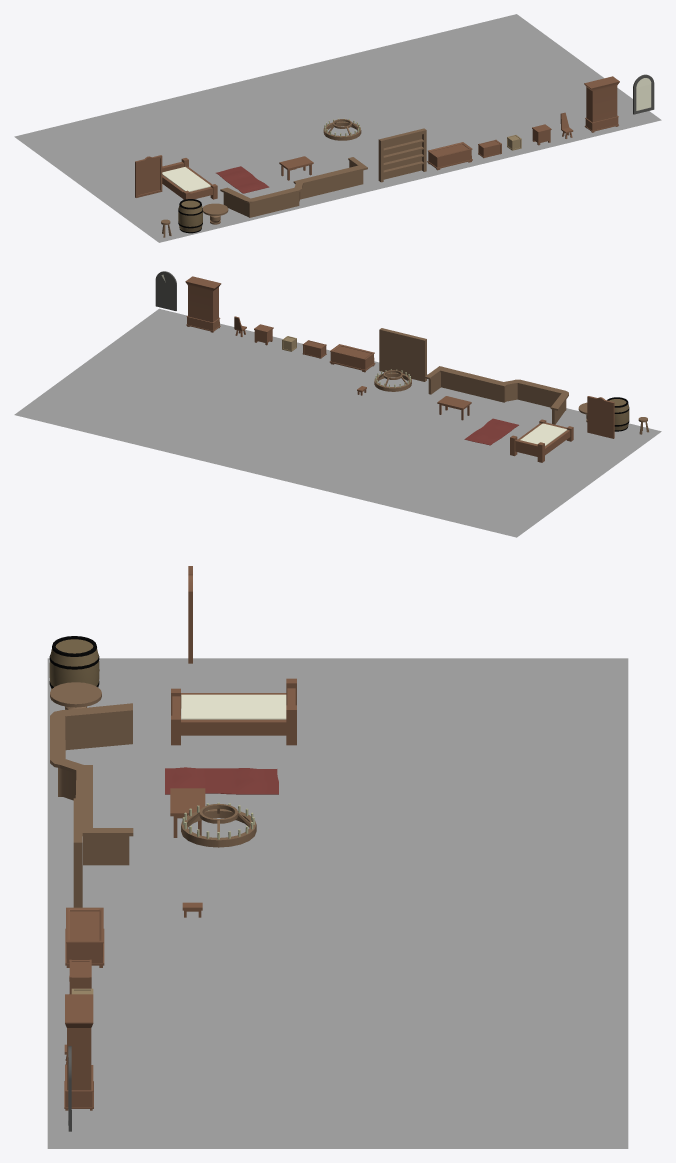
Rendered from Prop_Pallet_v5.fbx.
3 views of the same model, one above another, from view 1: azimuth 30°, elevation 25°; view 2: azimuth 150°, elevation 25°; view 3: azimuth 270°, elevation 25° (orthographic). The views are drawn at different scales.
Parts seen in each view (by area): view 1: pPlane22, bar, shelf_big, cupboard, painting, dresser, frame, barrel, window, carpet, matress, body (+3 smaller); view 2: pPlane22, bar, shelf_big, cupboard, painting, frame, dresser, window, carpet, matress, barrel, body (+1 smaller); view 3: pPlane22, bar, frame, cupboard, carpet, matress, barrel, dresser, body, table, shelf_big, desk.
Part boxes in pixels (x1,y1,x2,y2): pPlane22: (14, 14, 661, 242); bar: (220, 157, 367, 217); shelf_big: (378, 128, 426, 182); cupboard: (584, 76, 619, 132); painting: (135, 155, 162, 197); dresser: (427, 142, 472, 170); frame: (162, 158, 217, 199); barrel: (178, 199, 202, 233); window: (633, 74, 654, 114); carpet: (216, 166, 269, 193); matress: (162, 167, 210, 191); body: (323, 119, 361, 140); pPlane22: (14, 308, 661, 537); bar: (425, 366, 568, 424); shelf_big: (379, 328, 426, 381); cupboard: (185, 276, 221, 332); painting: (587, 396, 614, 438); frame: (510, 419, 573, 462); dresser: (329, 344, 375, 372); window: (155, 271, 176, 310); carpet: (464, 418, 518, 445); matress: (520, 423, 567, 445); barrel: (607, 397, 629, 431); body: (374, 370, 411, 391); pPlane22: (47, 658, 628, 1148); bar: (50, 703, 133, 865); frame: (171, 678, 296, 745); cupboard: (64, 994, 93, 1110); carpet: (165, 767, 278, 794); matress: (181, 694, 286, 719); barrel: (49, 636, 99, 689); dresser: (65, 907, 104, 967); body: (181, 803, 256, 847); table: (50, 682, 101, 709); shelf_big: (73, 798, 82, 907); desk: (170, 788, 205, 837).
Size of the model in its own units: 249 by 25.4 by 124.
